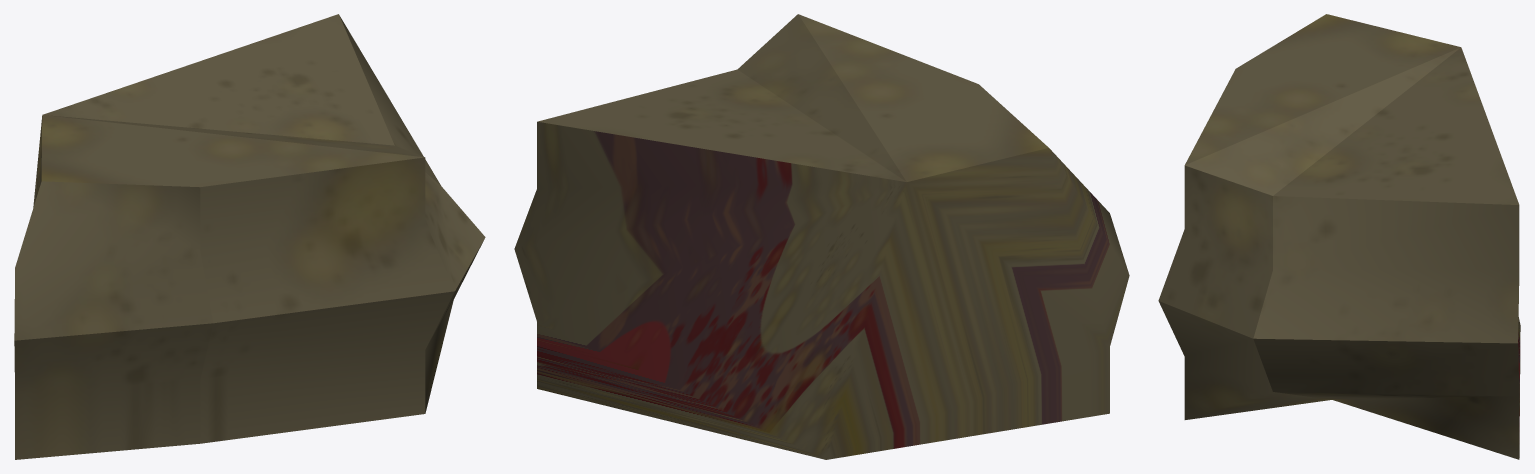
File: ishi_02_3_3.fbx
3 renders of one model, left to right at view 1: azimuth 30°, elevation 25°; view 2: azimuth 150°, elevation 25°; view 3: azimuth 270°, elevation 25°, orthographic. The views are drawn at different scales.
Parts seen in each view (by area): view 1: polySurface22; view 2: polySurface22; view 3: polySurface22.
Part boxes in pixels (x1=…): polySurface22: x1=14, y1=14, x2=485, y2=459; polySurface22: x1=514, y1=14, x2=1129, y2=459; polySurface22: x1=1158, y1=14, x2=1520, y2=459.
Size of the model in its own units: 9.83 by 5.14 by 6.62.
Materials: 1 (1 with a texture image).
